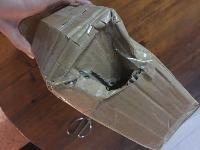damaged package: (61, 12, 151, 94)
undamaged: (29, 0, 198, 148)
